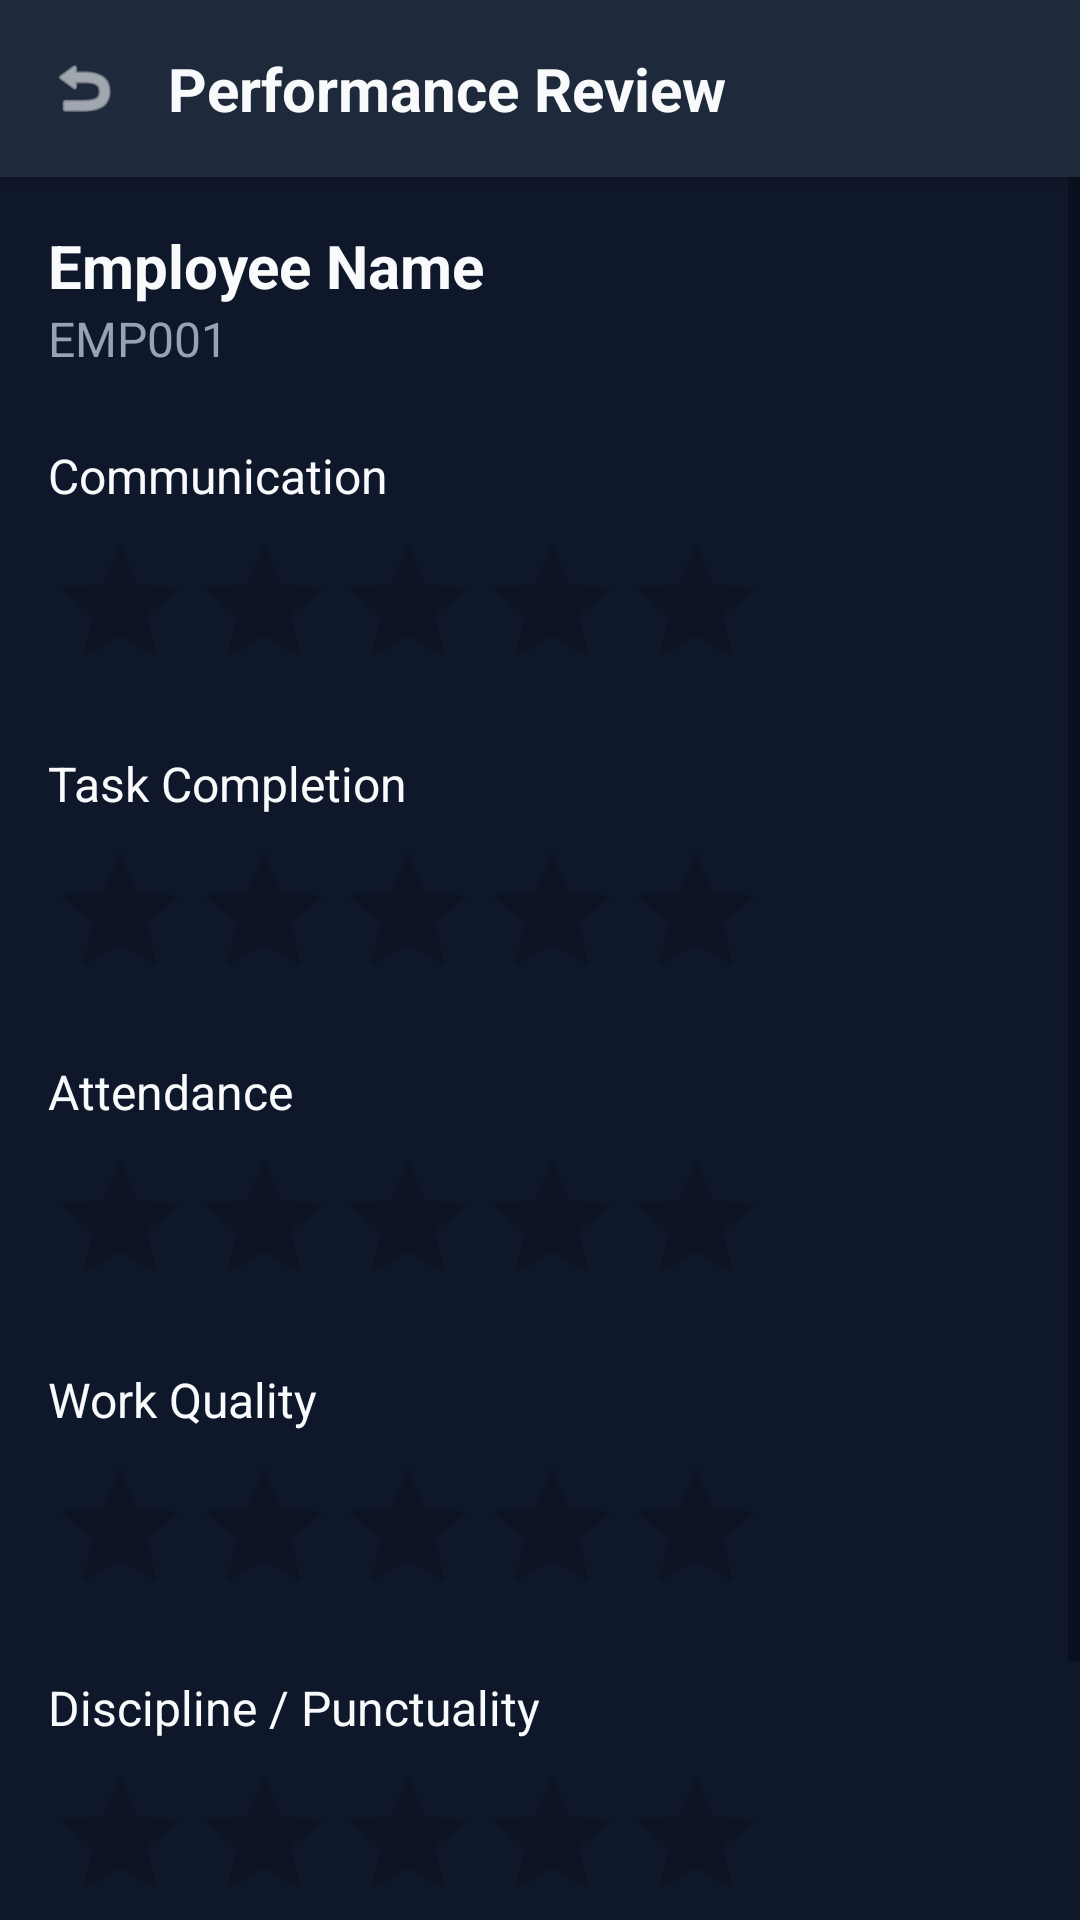

Icons on this 1080×1920 Android screen, each with its box as (x1, y1, x2, y2):
revert: (59, 65, 111, 112)
